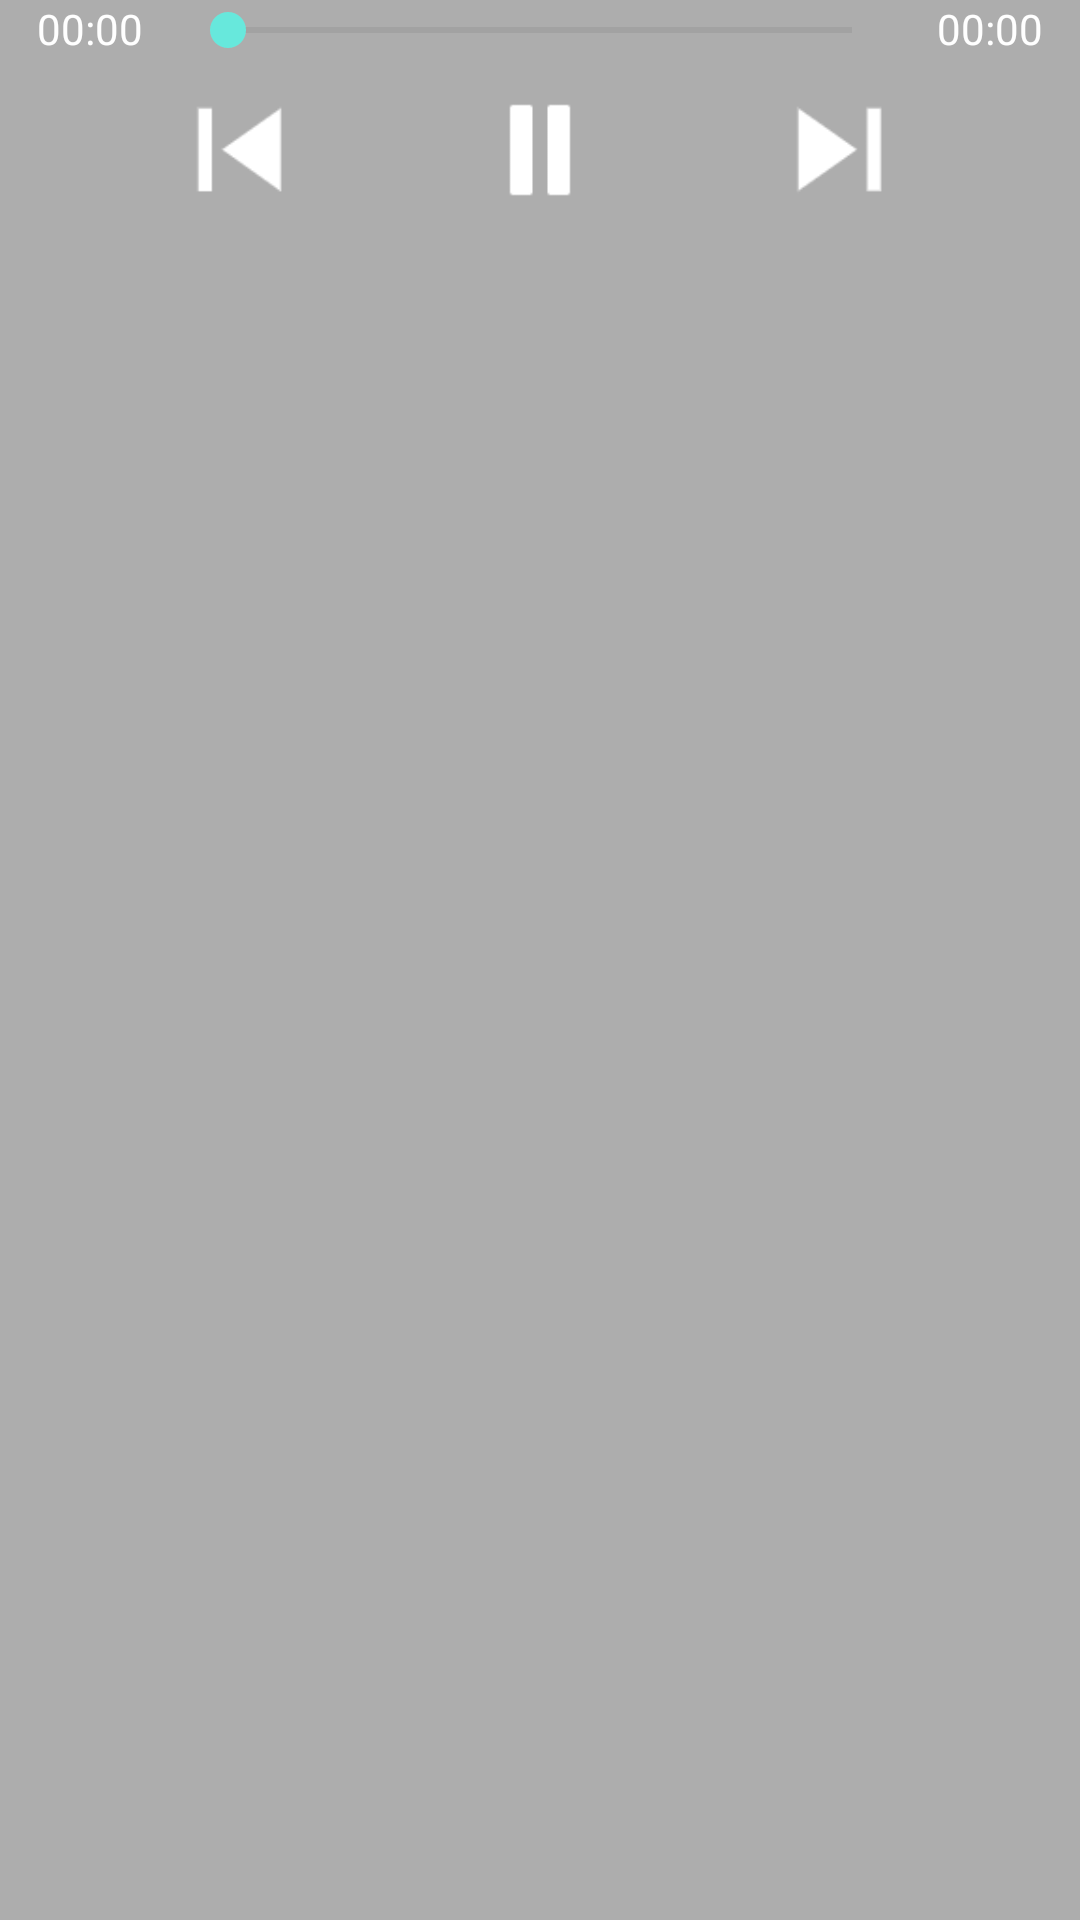

Locate icon controls on the screen. Image size 1080px x 1920px, boxes as box=[x1, y1, x2, y2].
player last: box=[198, 108, 281, 192]
player next: box=[798, 108, 881, 191]
player pause: box=[510, 105, 570, 195]
